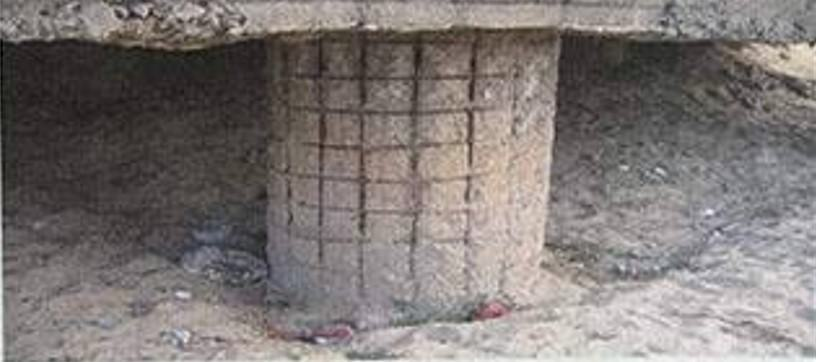Exposed reinforcement: (268, 164, 489, 186), (462, 43, 477, 246), (278, 40, 294, 228), (289, 104, 498, 117), (408, 33, 419, 276), (358, 33, 368, 296), (317, 36, 327, 264), (297, 199, 416, 218), (300, 139, 466, 152), (286, 72, 508, 81), (284, 226, 371, 245), (285, 38, 461, 47), (393, 235, 462, 246)
Spalling: (1, 1, 262, 51), (657, 1, 816, 47)
